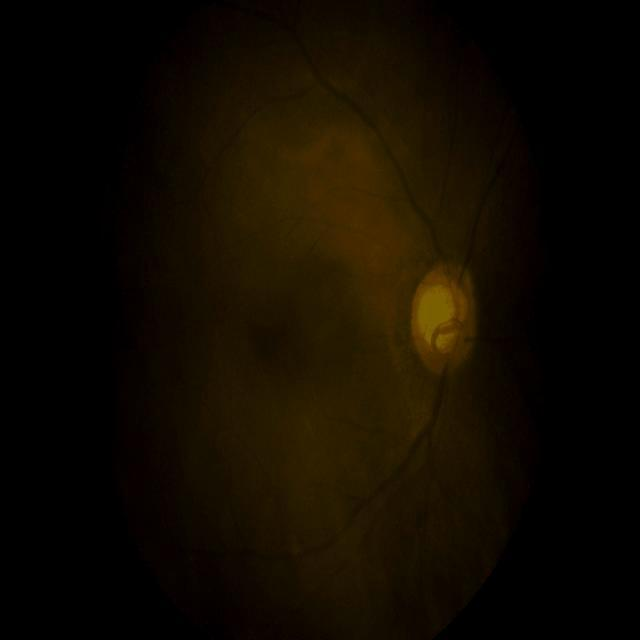cup: (418, 280, 471, 354)
disk: (412, 262, 480, 378)
